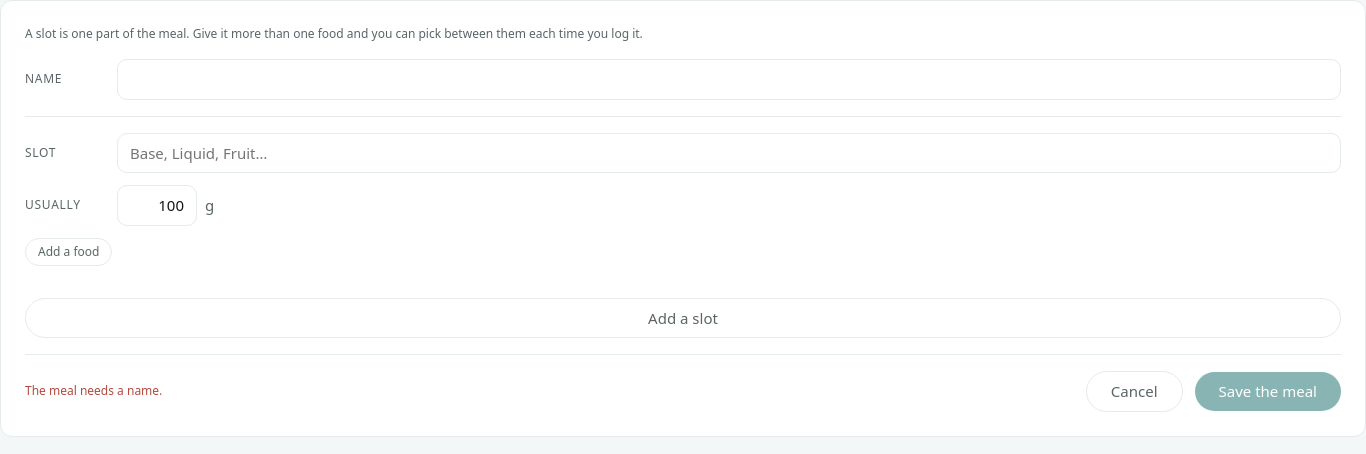
Test: MealTemplateForm › names the slot that is missing a food
Type "Breakfast" into the field with id "template-name" at (729, 79), box [117, 59, 1341, 100]
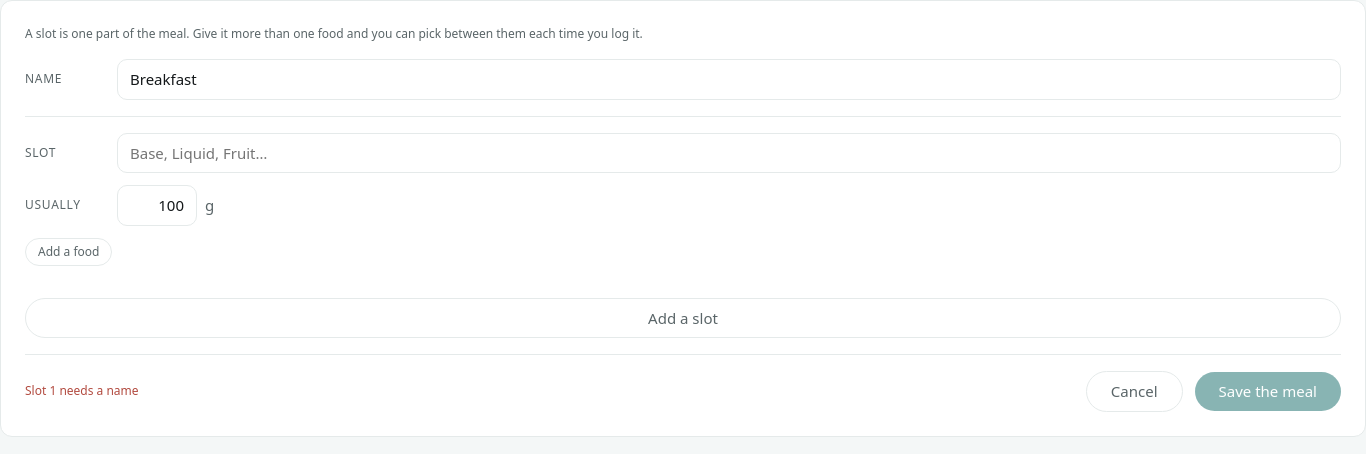
Type "Base" into the field with id "slot-0-label" at (729, 153), box [117, 132, 1341, 173]
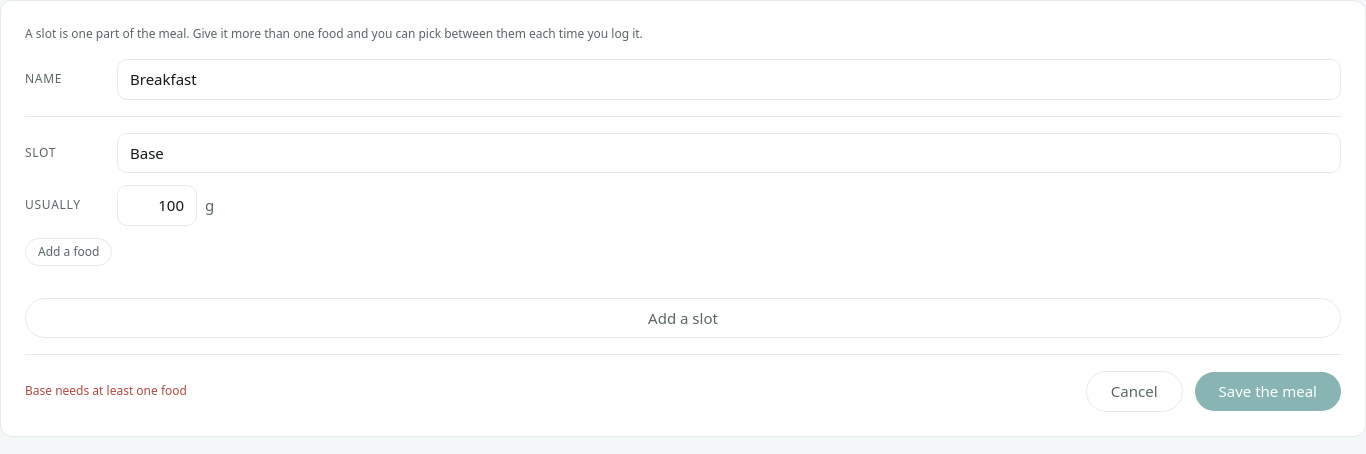
Expected: the text "Base needs at least one food" is shown, [25, 382, 187, 400]
